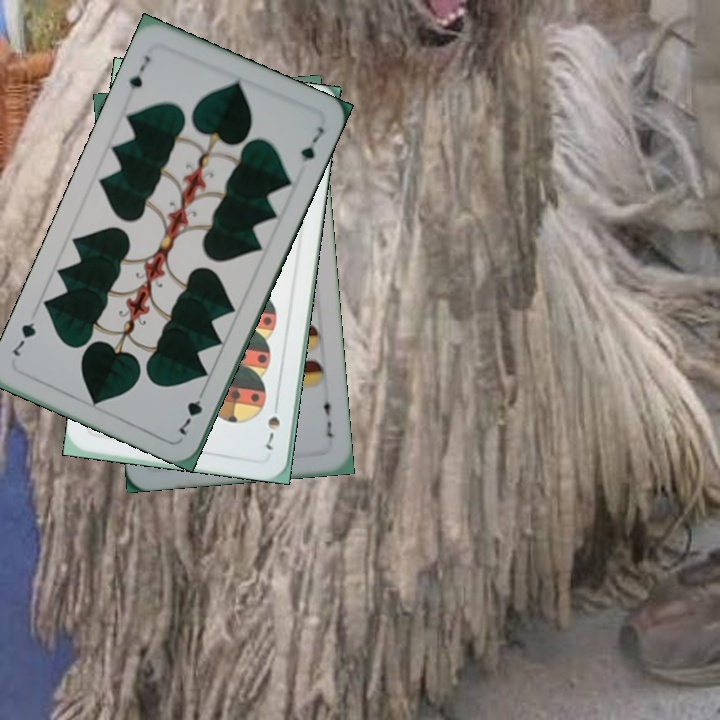E7: (319, 390, 336, 440)
G7: (175, 383, 208, 438), (125, 51, 153, 92)
S7: (261, 396, 283, 452)
